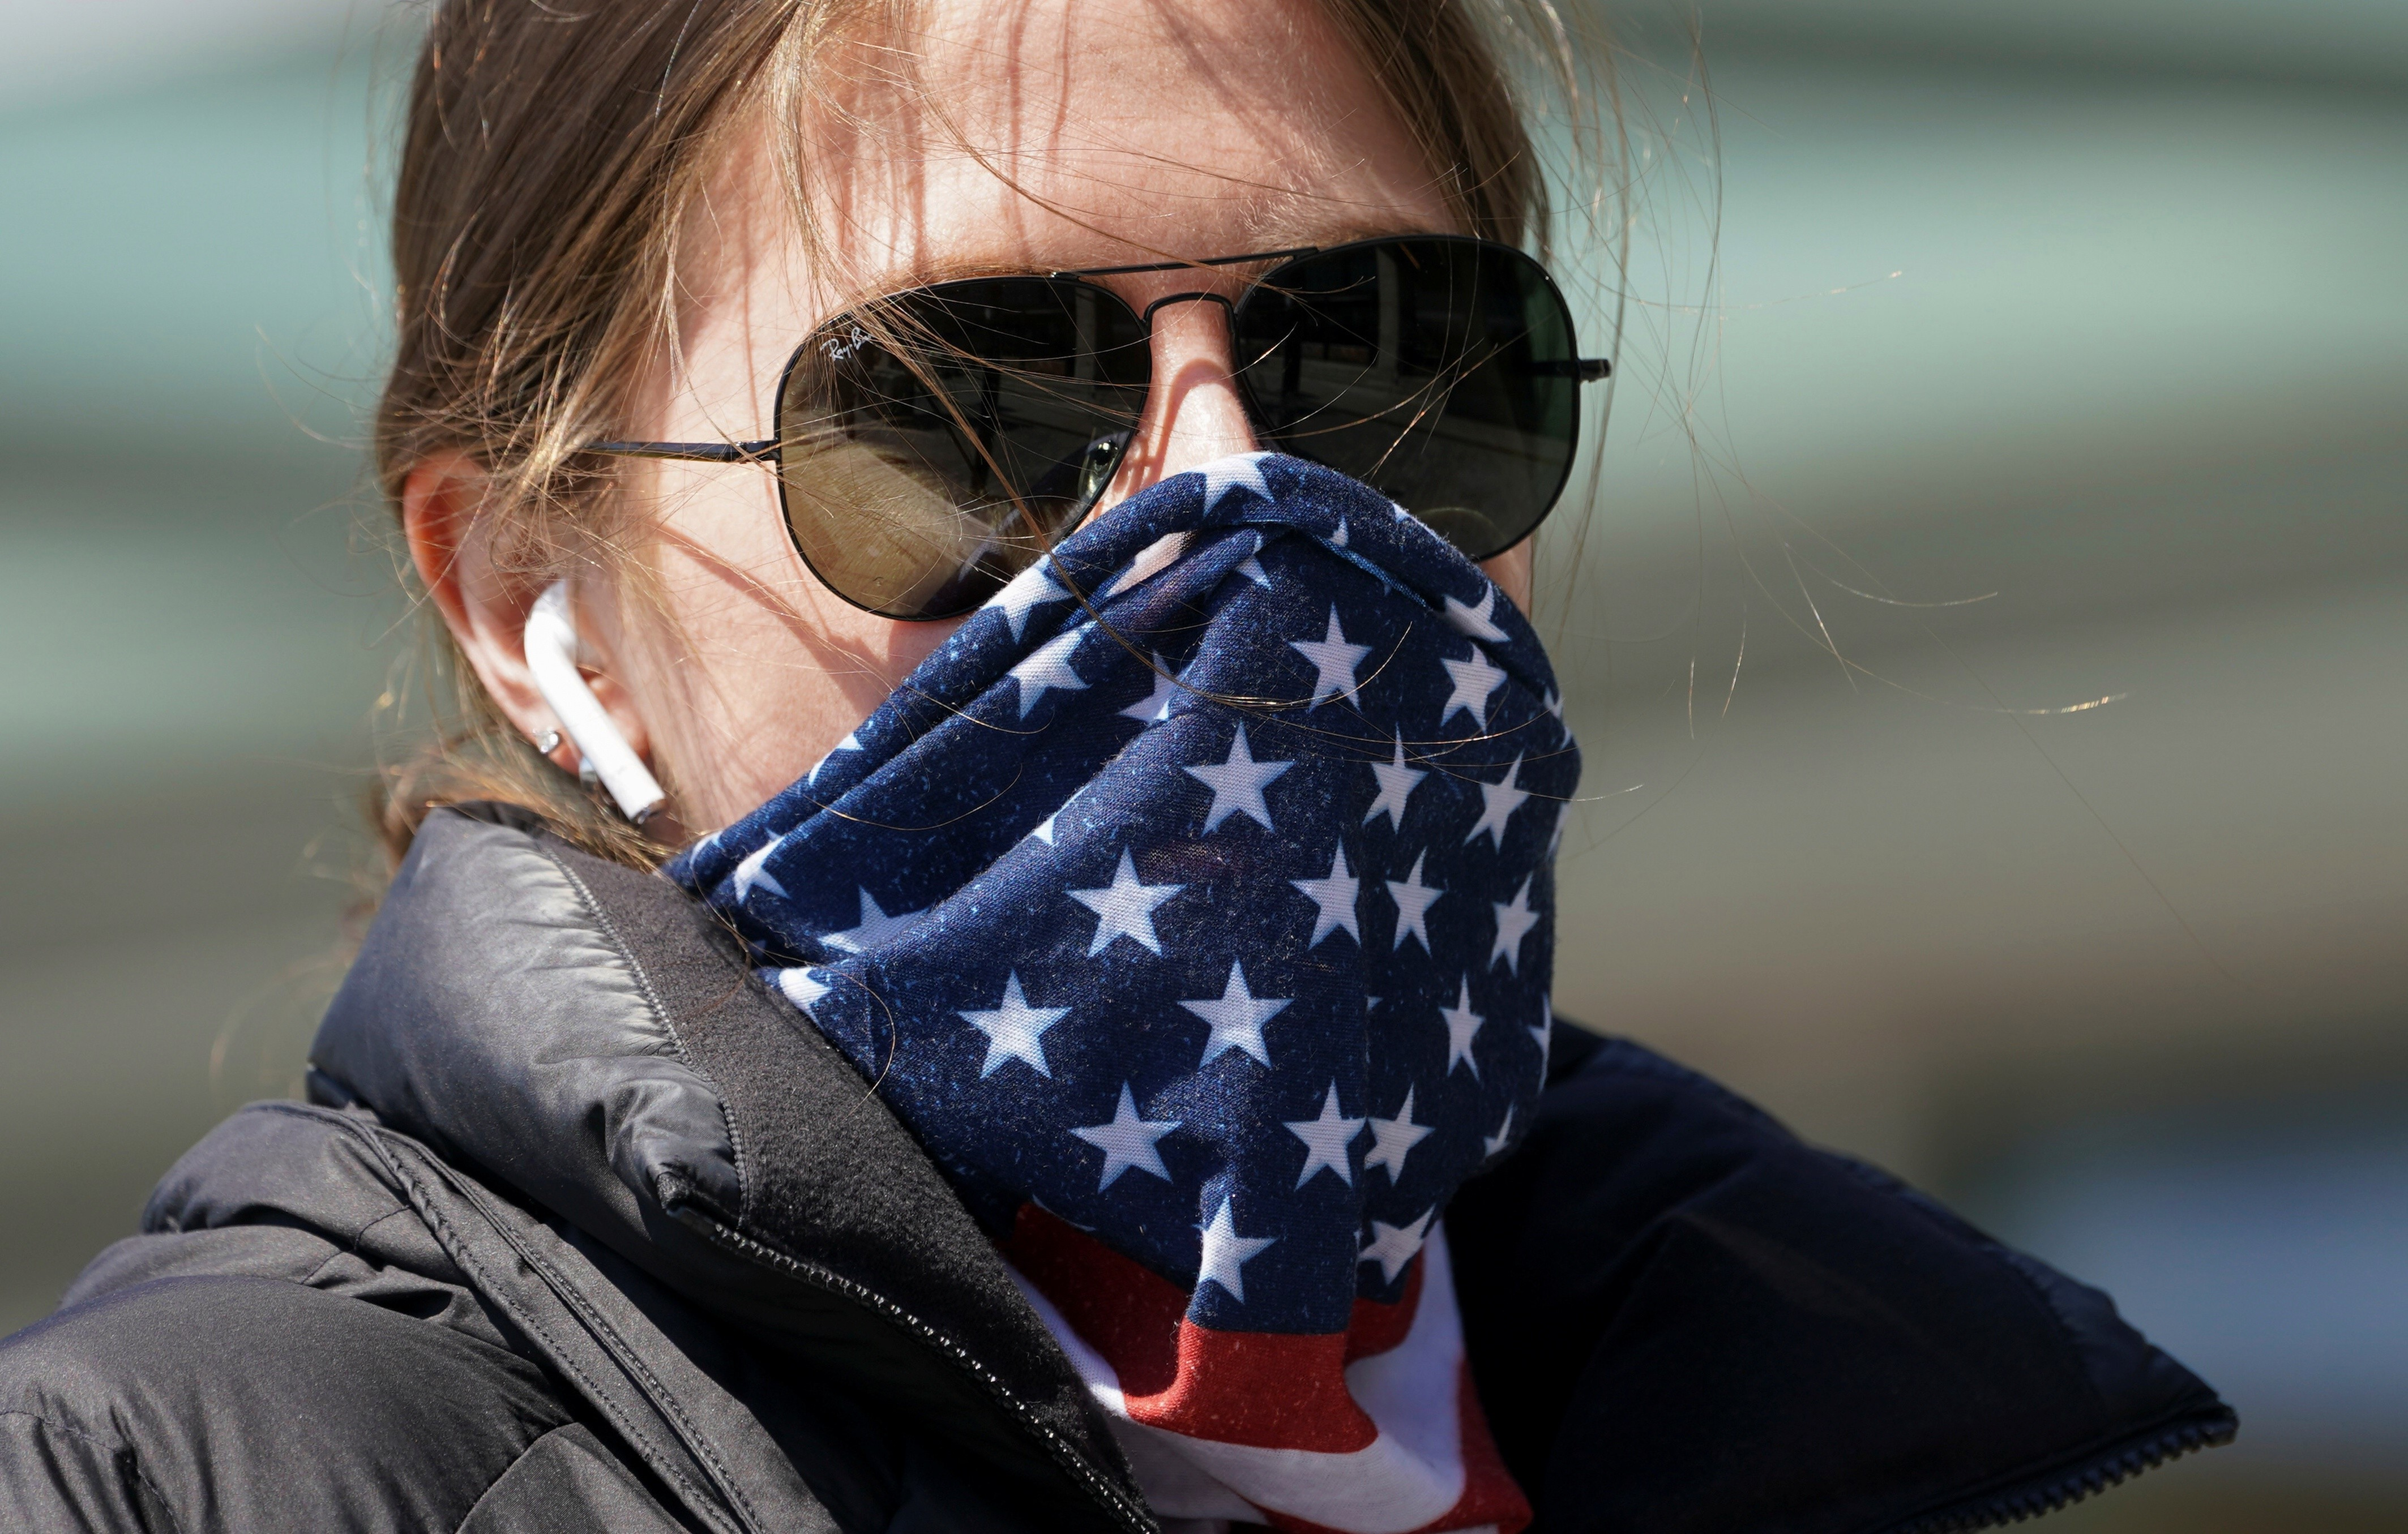face_with_mask: (519, 18, 1576, 1268)
